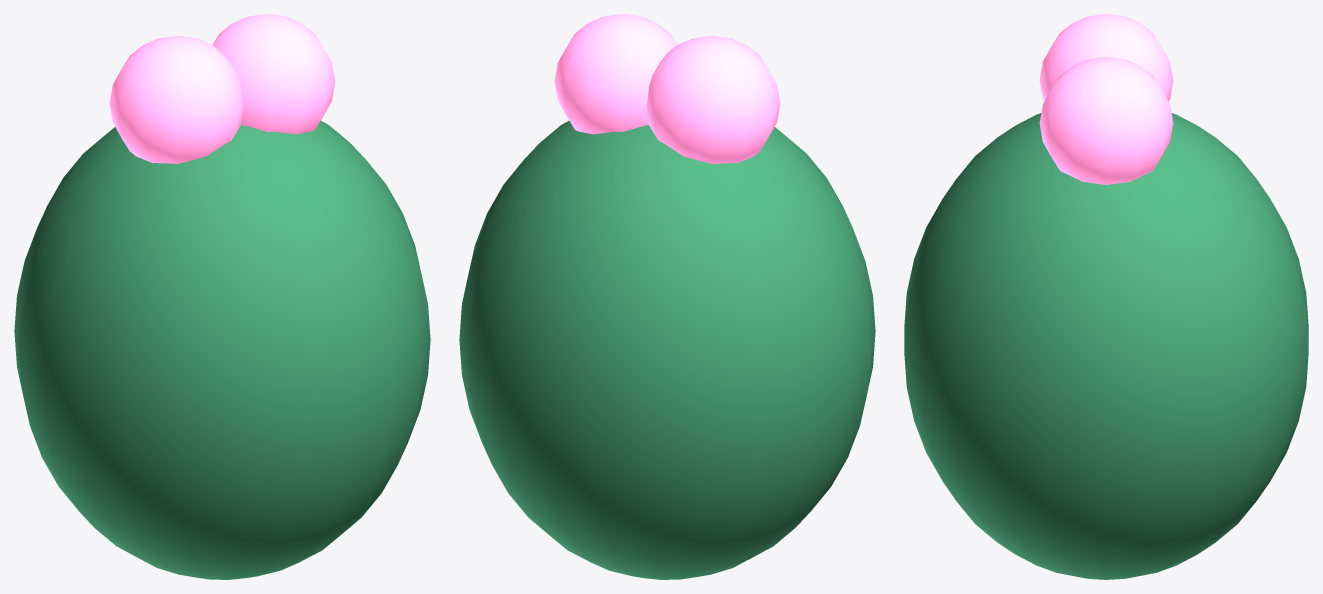
Rendered from mossy_stage2.glb.
The picture shows the model from 3 angles, left to right: view 1: azimuth 30°, elevation 25°; view 2: azimuth 150°, elevation 25°; view 3: azimuth 270°, elevation 25°; orthographic projection.
Visible parts, largest first — view 1: Body; view 2: Body; view 3: Body.
Part boxes in pixels (<box>): Body: <box>14,14,430,579</box>; Body: <box>459,14,875,579</box>; Body: <box>904,14,1308,579</box>.
Bounding box in the file's own units: 1.01 × 1.42 × 0.9986.
